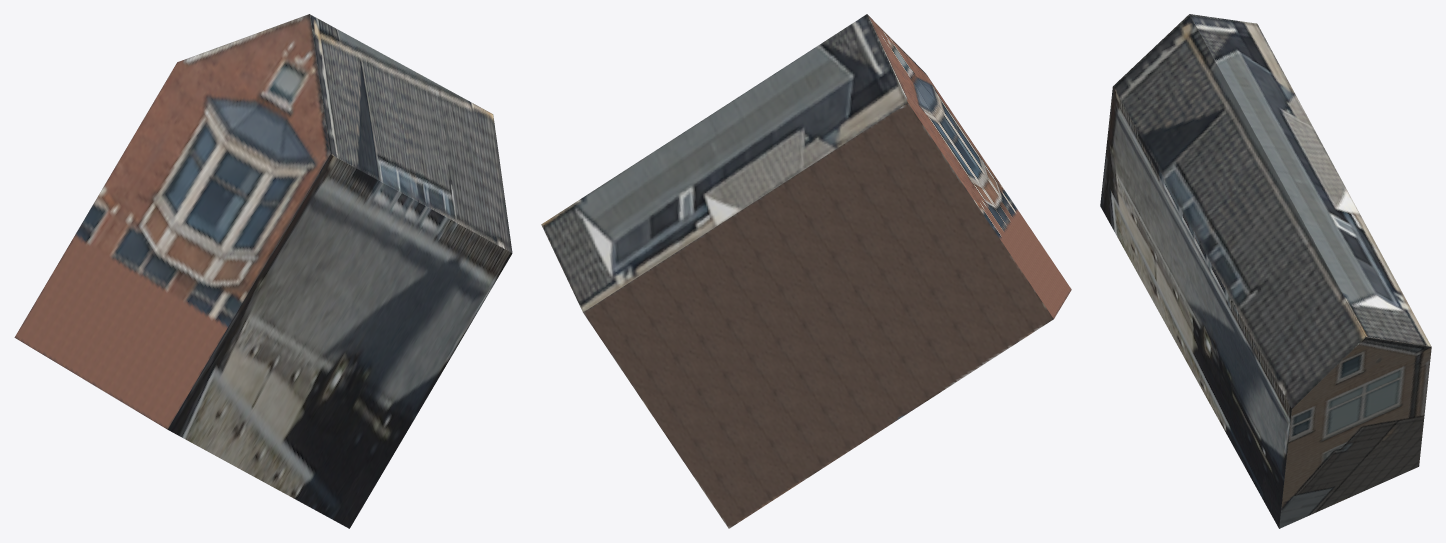
The picture shows the model from 3 angles, left to right: view 1: azimuth 30°, elevation 25°; view 2: azimuth 150°, elevation 25°; view 3: azimuth 270°, elevation 25°; orthographic projection. The views are drawn at different scales.
Visible parts, largest first — view 1: BAG_0599100000656926 (×2); view 2: BAG_0599100000656926 (×2); view 3: BAG_0599100000656926 (×3).
Boxes of the visible parts, box(x1,y1,x2,y2) form: BAG_0599100000656926 (×2): box(14, 14, 512, 528); BAG_0599100000656926 (×2): box(541, 14, 1071, 528); BAG_0599100000656926 (×3): box(1100, 14, 1431, 528).
Size of the model in its own units: 15.02 by 15.01 by 9.46.
Materials: 1 (1 with a texture image).
